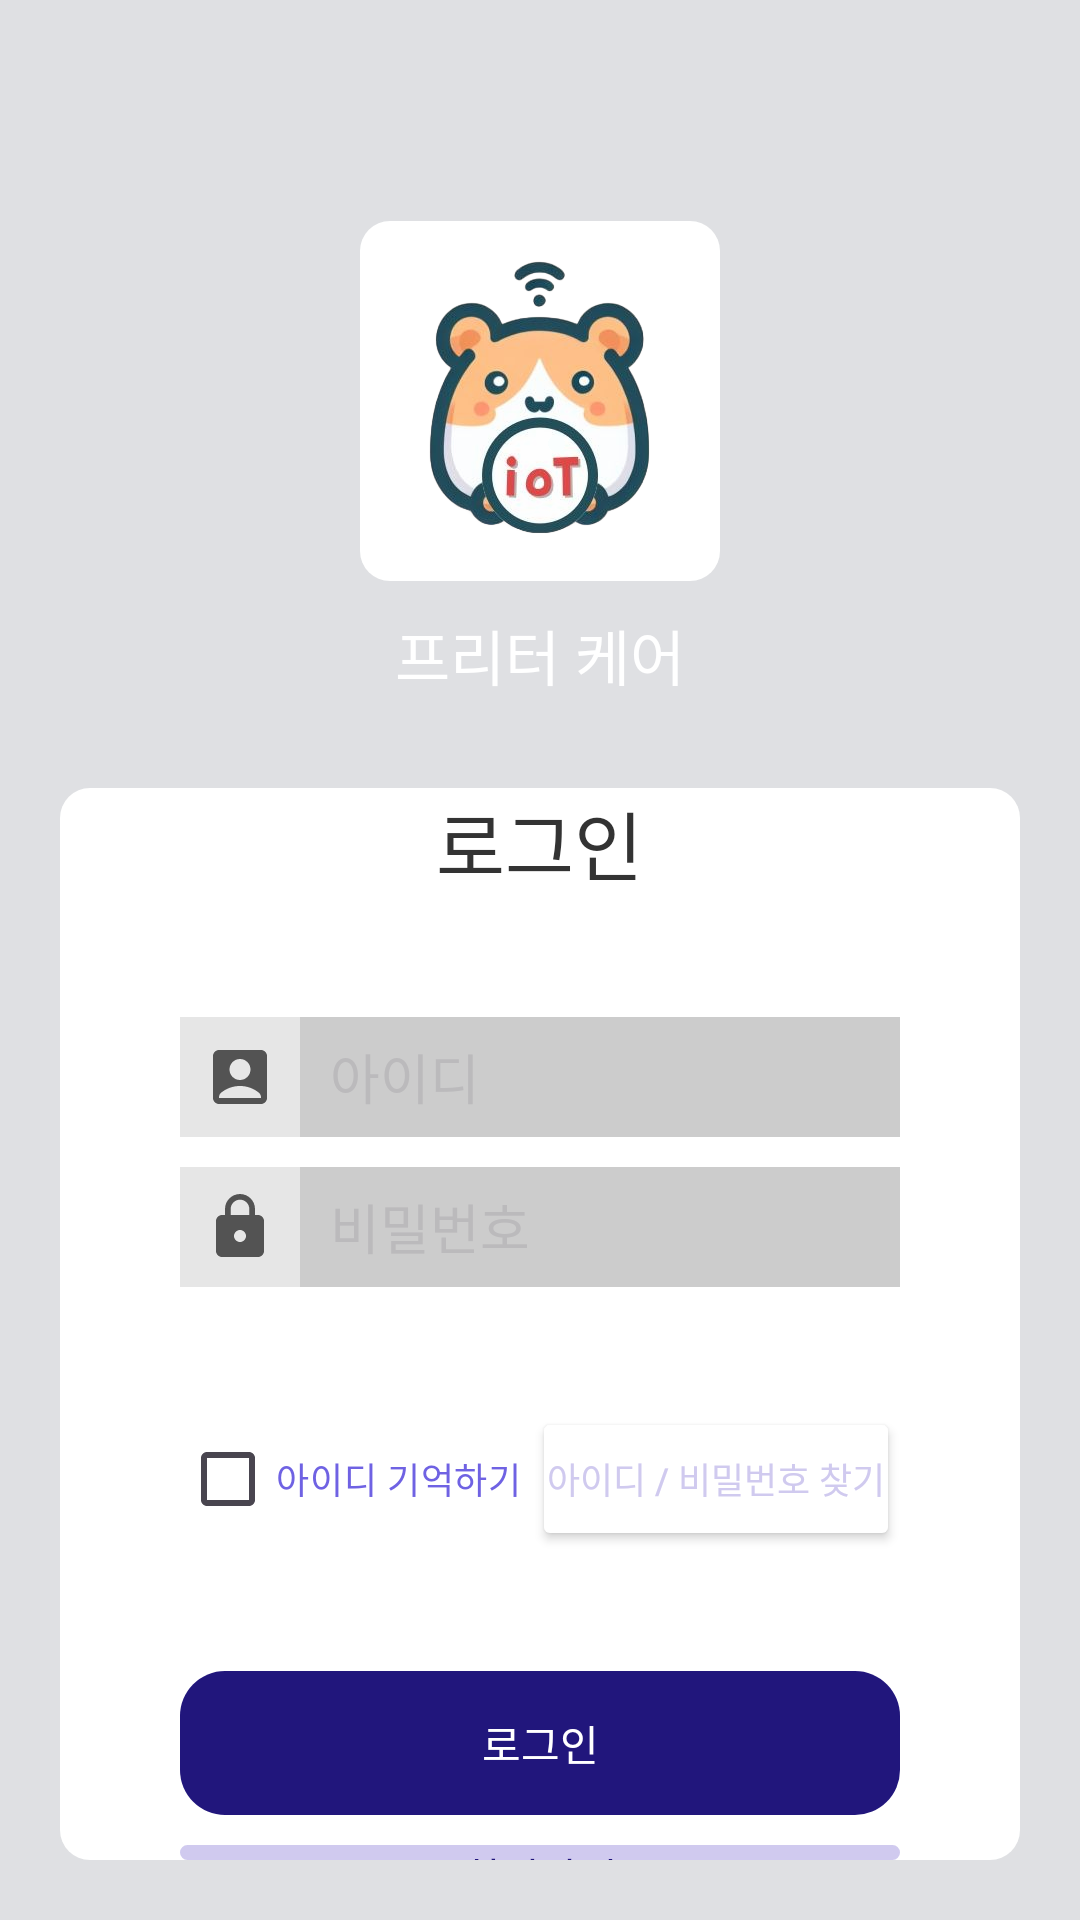

Locate icon controls on the screen. Image size 1080px×1920px, boxes as (x1, y1, x2, y2).
account id: (180, 1017, 300, 1137)
account pw: (180, 1167, 300, 1287)
